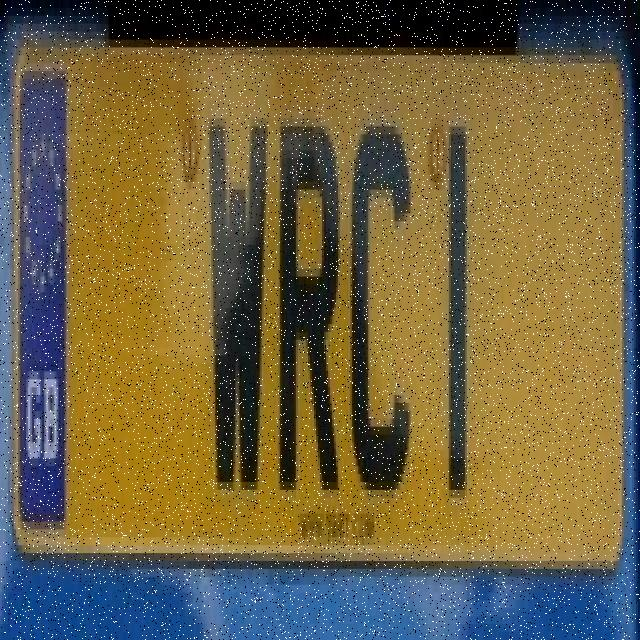licenseplate: (6, 20, 632, 598)
